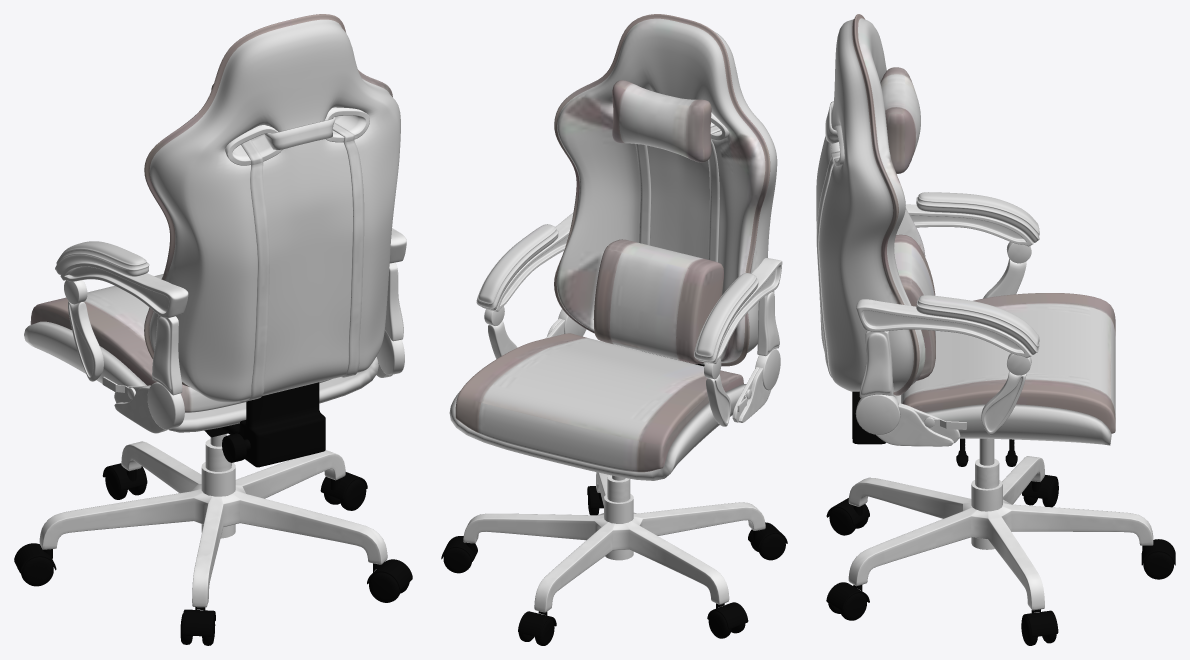
The model's file is Chair35.glb.
3 renders of one model, left to right at view 1: azimuth 30°, elevation 25°; view 2: azimuth 150°, elevation 25°; view 3: azimuth 270°, elevation 25°, orthographic. The views are drawn at different scales.
Parts seen in each view (by area): view 1: Chair35_model; view 2: Chair35_model; view 3: Chair35_model.
Boxes of the visible parts, x1,y1,x2,y2 form: Chair35_model: (14, 14, 412, 645); Chair35_model: (441, 14, 787, 645); Chair35_model: (816, 14, 1175, 645).
Bounding box in the file's own units: 1.64 × 2.69 × 1.6.
1 material, 1 textured.
